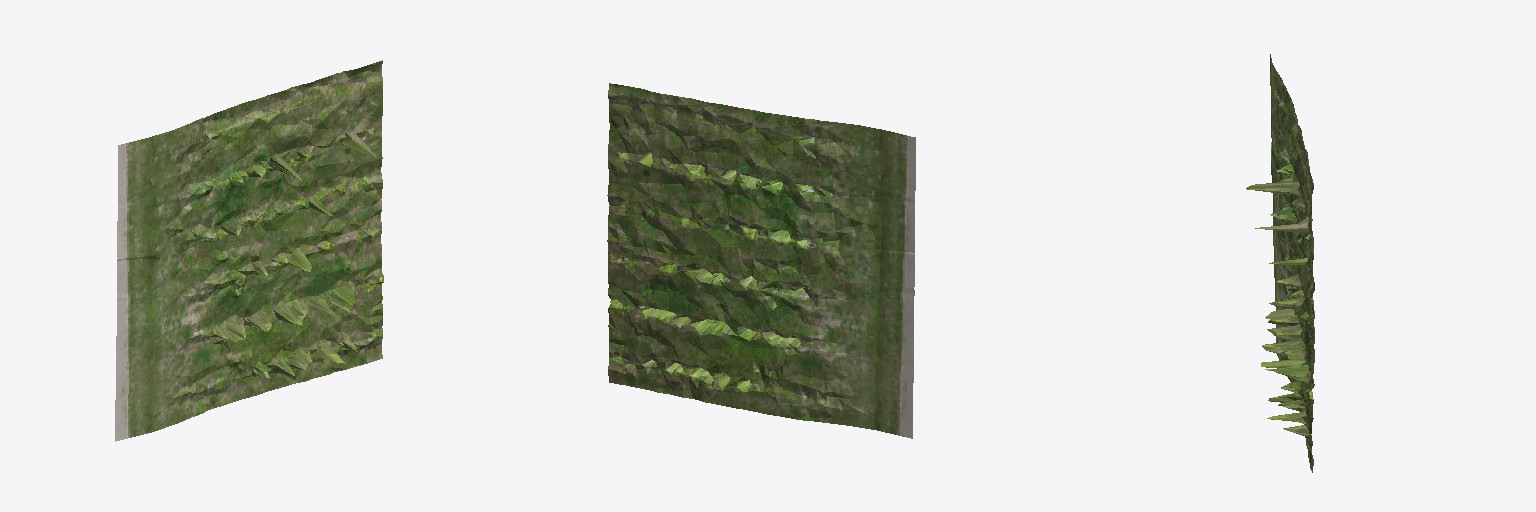
3 renders of one model, left to right at view 1: azimuth 30°, elevation 25°; view 2: azimuth 150°, elevation 25°; view 3: azimuth 270°, elevation 25°, orthographic.
Visible parts, largest first — view 1: grp1; view 2: grp1; view 3: grp1.
Part boxes in pixels (left/top/right/bottom): grp1: left=115, top=60, right=383, bottom=441; grp1: left=607, top=83, right=915, bottom=438; grp1: left=1246, top=54, right=1314, bottom=472.
Size of the model in its own units: 10 by 10 by 2.15.
Materials: 1 (1 with a texture image).